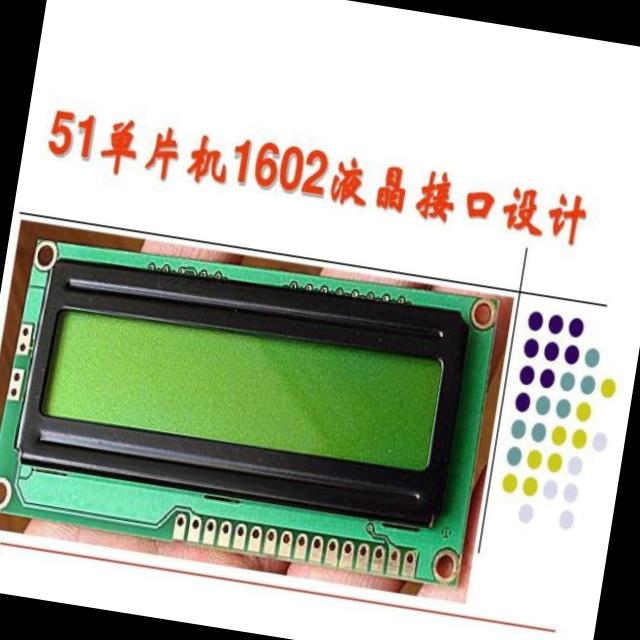lcd: (0, 220, 507, 591)
